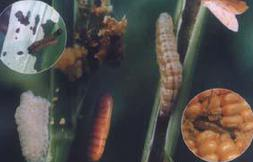pest: (142, 6, 181, 116), (82, 89, 118, 159), (192, 111, 239, 146), (26, 26, 63, 62)
